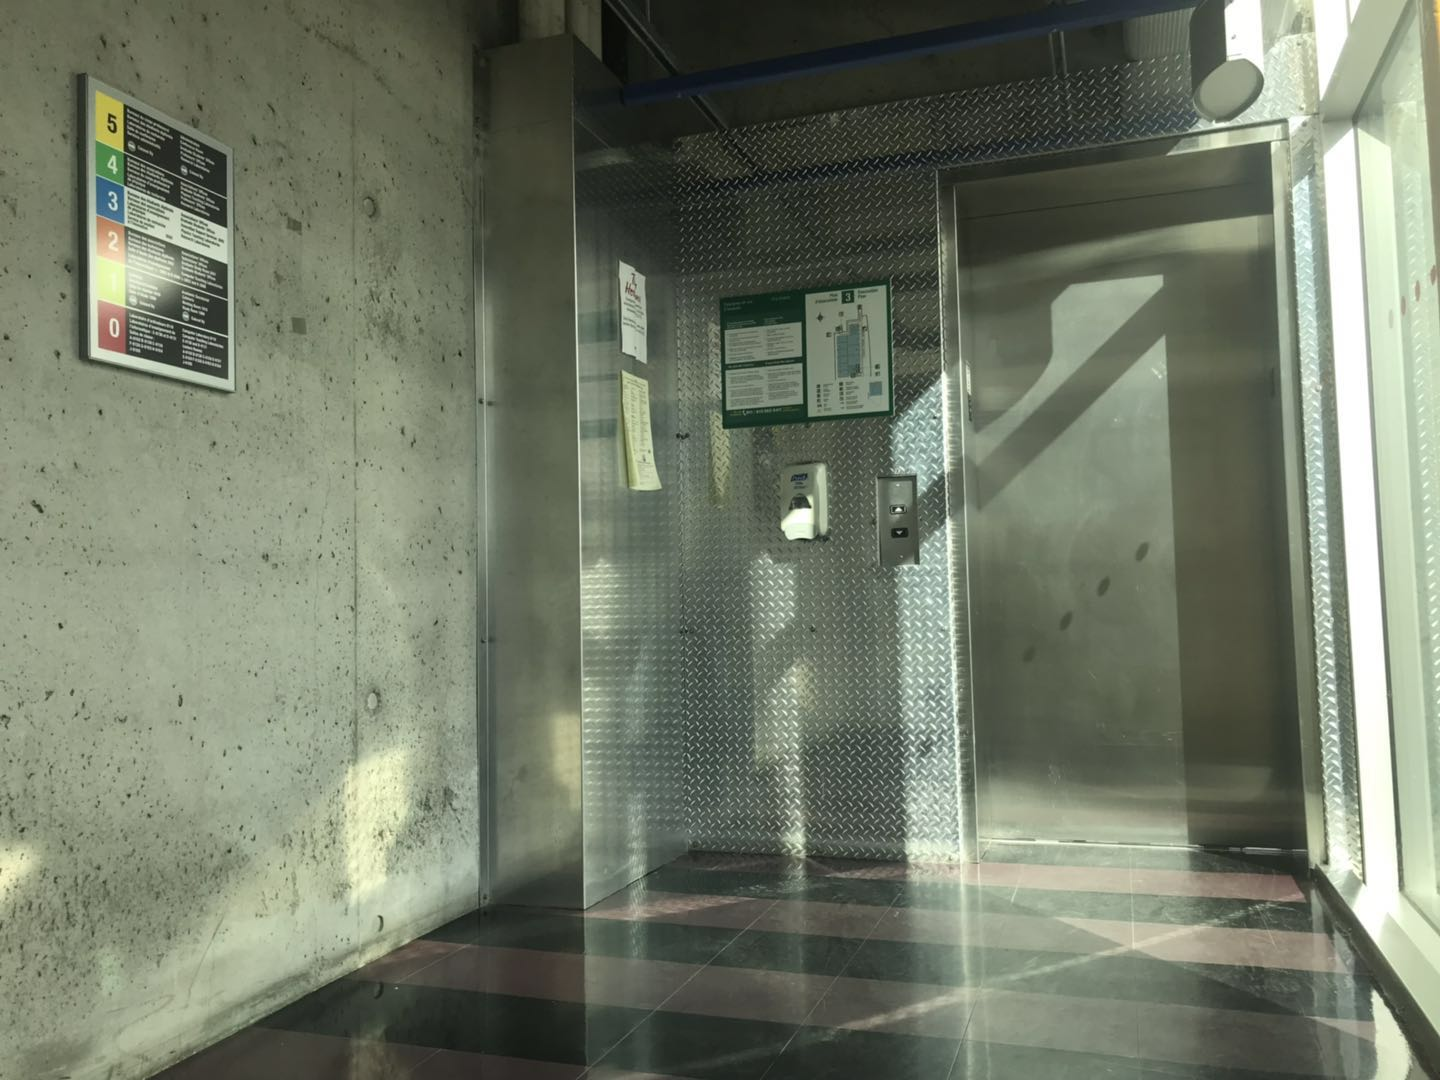door: (938, 124, 1328, 870)
sign: (87, 74, 237, 393), (722, 286, 891, 425)
